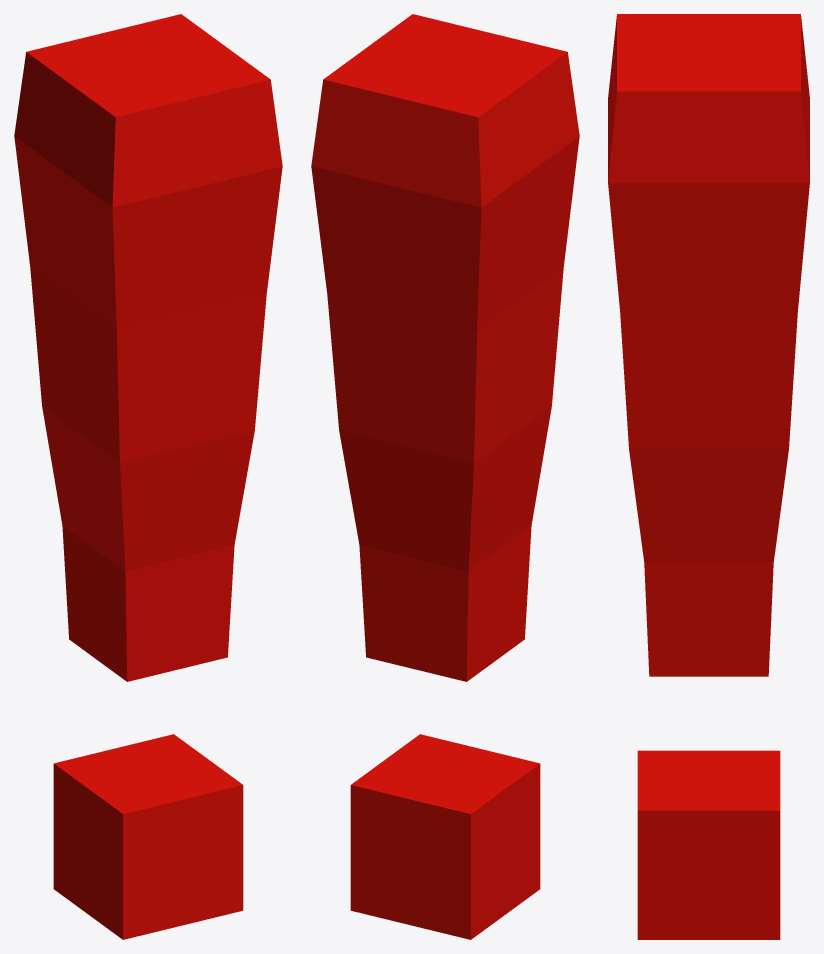
The model's file is 感叹号.fbx.
3 views of the same model, side by side, from view 1: azimuth 30°, elevation 25°; view 2: azimuth 150°, elevation 25°; view 3: azimuth 270°, elevation 25° (orthographic). The views are drawn at different scales.
Parts seen in each view (by area): view 1: Cube, 立方体; view 2: Cube, 立方体; view 3: Cube, 立方体.
Part boxes in pixels (x1=…): Cube: x1=14, y1=14, x2=282, y2=681; 立方体: x1=53, y1=734, x2=243, y2=939; Cube: x1=311, y1=14, x2=579, y2=681; 立方体: x1=350, y1=734, x2=540, y2=939; Cube: x1=608, y1=14, x2=809, y2=676; 立方体: x1=637, y1=750, x2=780, y2=939.
Size of the model in its own units: 35.61 by 35.61 by 167.
